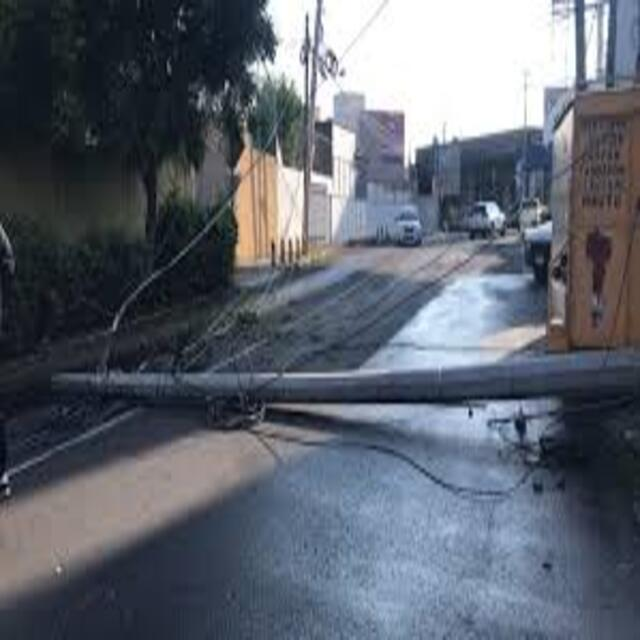Inclined Pole: (38, 336, 640, 422)
